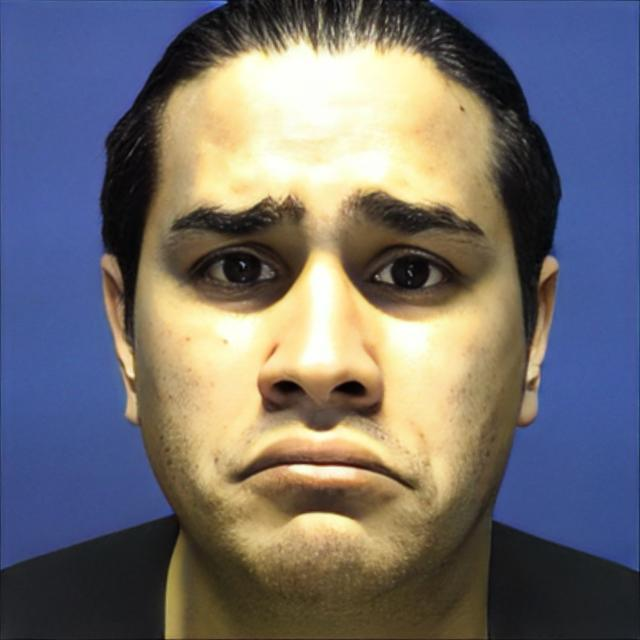sad: (132, 58, 524, 602)
